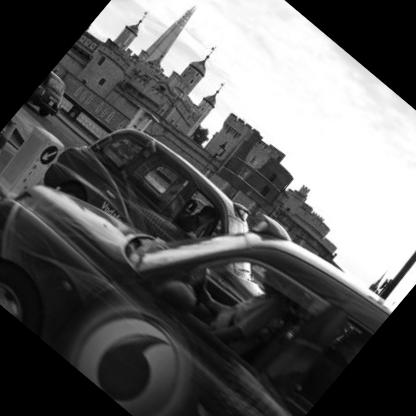car: (1, 40, 411, 416), (39, 81, 288, 313)
